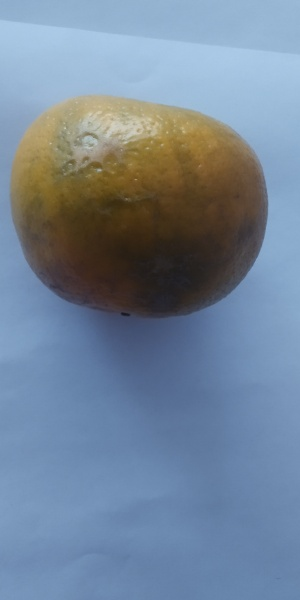BAD: (7, 94, 269, 318)
